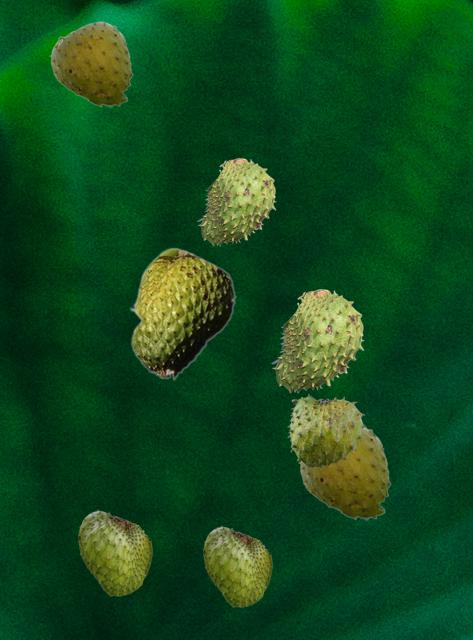guyabano: (129, 247, 235, 380), (271, 289, 363, 392), (298, 427, 390, 520), (49, 21, 132, 107), (197, 158, 275, 245), (78, 509, 151, 595), (287, 393, 365, 467), (203, 525, 271, 606)
